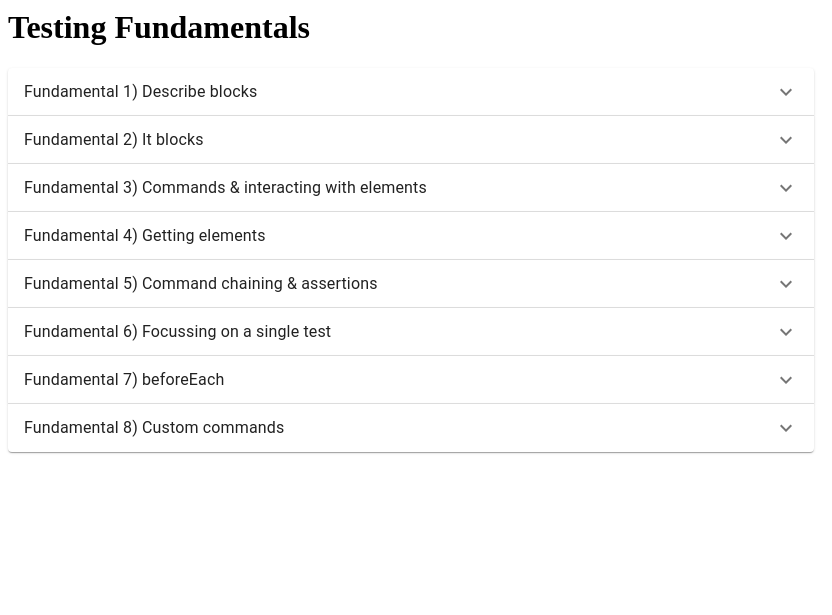
it: Fundamentals test › Accordion works correctly
Expected: the text "Your tests will exist in a describe block" is not shown
Click the button "Fundamental 1) Describe blocks": (141, 91) left=24, top=80, right=798, bottom=104
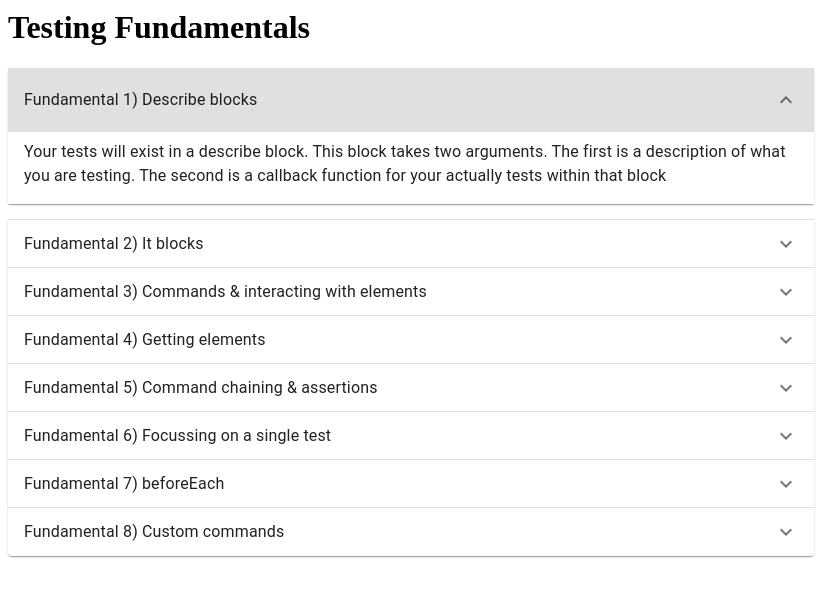
Expected: the text "Your tests will exist in a describe block" is shown, left=24, top=140, right=798, bottom=188
Click the button "Fundamental 1) Describe blocks": (141, 99) left=8, top=68, right=814, bottom=132
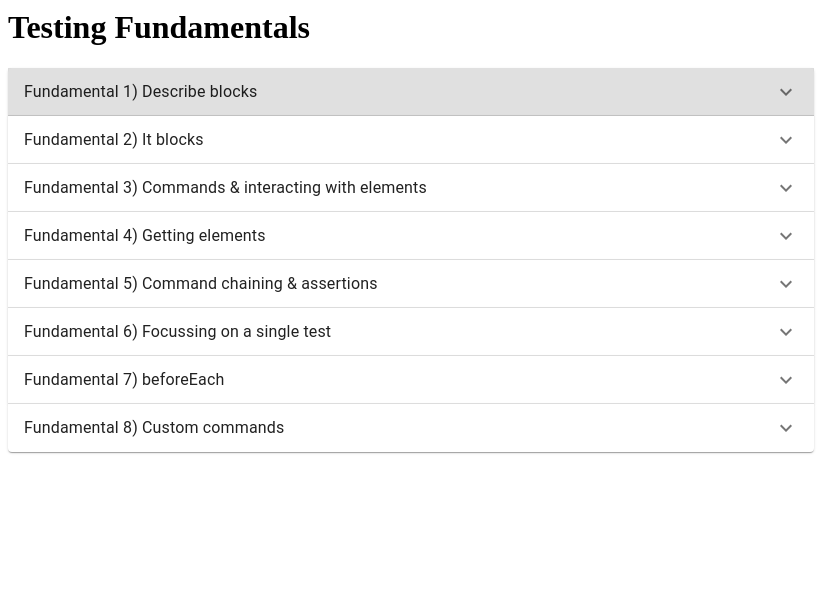
Expected: the text "Your tests will exist in a describe block" is gone
Click the button "Fundamental 2) It blocks": (114, 139) left=24, top=128, right=798, bottom=152
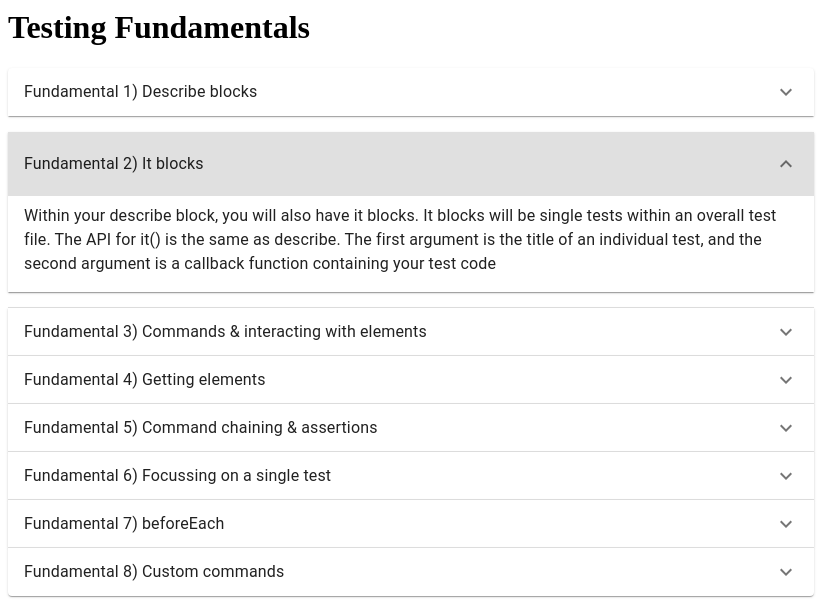
Expected: the text "Within your describe block, you will also have it blocks" is shown, left=24, top=204, right=798, bottom=276
Click the button "Fundamental 2) It blocks": (114, 163) left=8, top=132, right=814, bottom=196
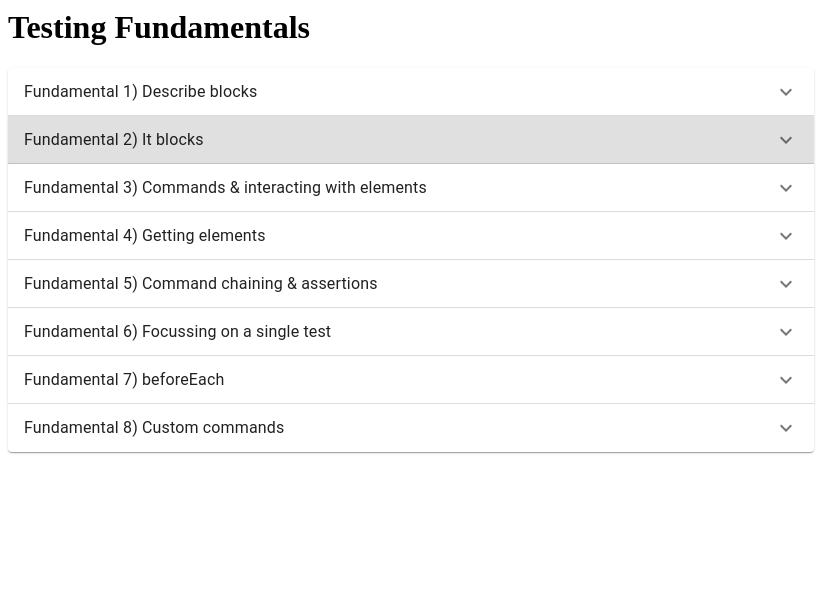
Expected: the text "Within your describe block, you will also have it blocks" is gone
